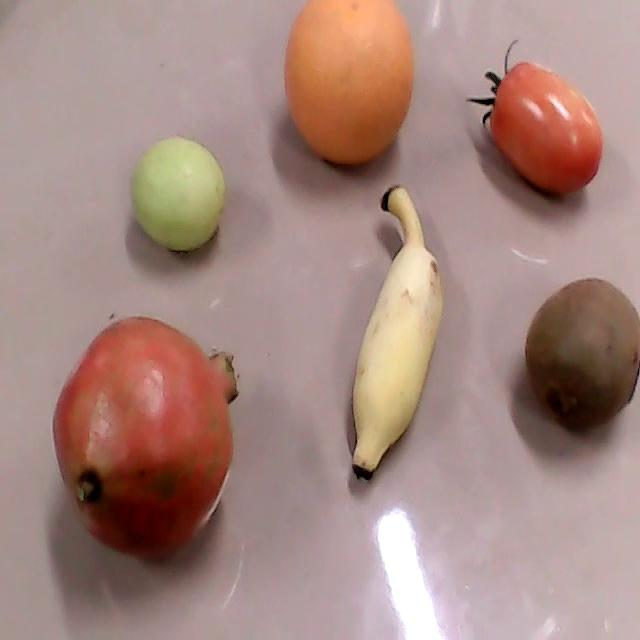kiwi: (524, 277, 639, 431)
lemon: (130, 136, 224, 250)
orange: (286, 1, 414, 166)
pomegranate: (51, 318, 241, 558)
tomato: (468, 40, 602, 193)
